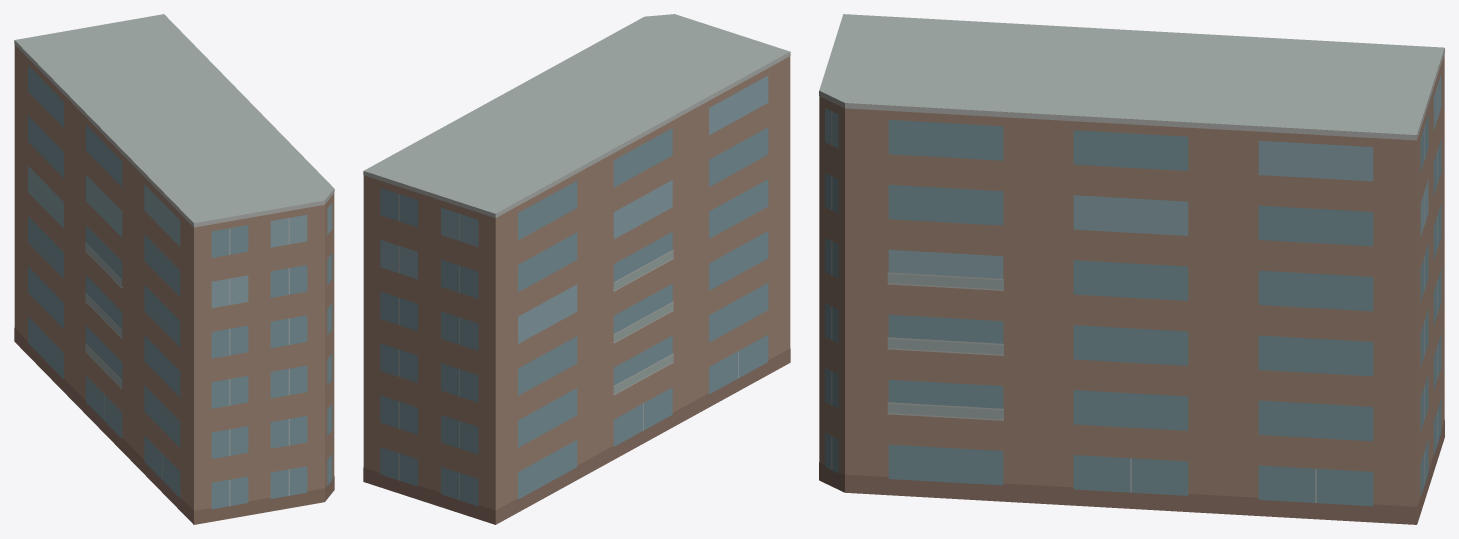
The model's file is survey-upis-32995260.glb.
The picture shows the model from 3 angles, left to right: view 1: azimuth 30°, elevation 25°; view 2: azimuth 150°, elevation 25°; view 3: azimuth 270°, elevation 25°; orthographic projection. The views are drawn at different scales.
Parts seen in each view (by area): view 1: survey-upis-32995260.tmp; view 2: survey-upis-32995260.tmp; view 3: survey-upis-32995260.tmp.
Part boxes in pixels (x1=…): survey-upis-32995260.tmp: x1=14, y1=14, x2=334, y2=524; survey-upis-32995260.tmp: x1=363, y1=14, x2=790, y2=524; survey-upis-32995260.tmp: x1=819, y1=14, x2=1444, y2=524.
Bounding box in the file's own units: 11.67 × 17.5 × 25.47.
